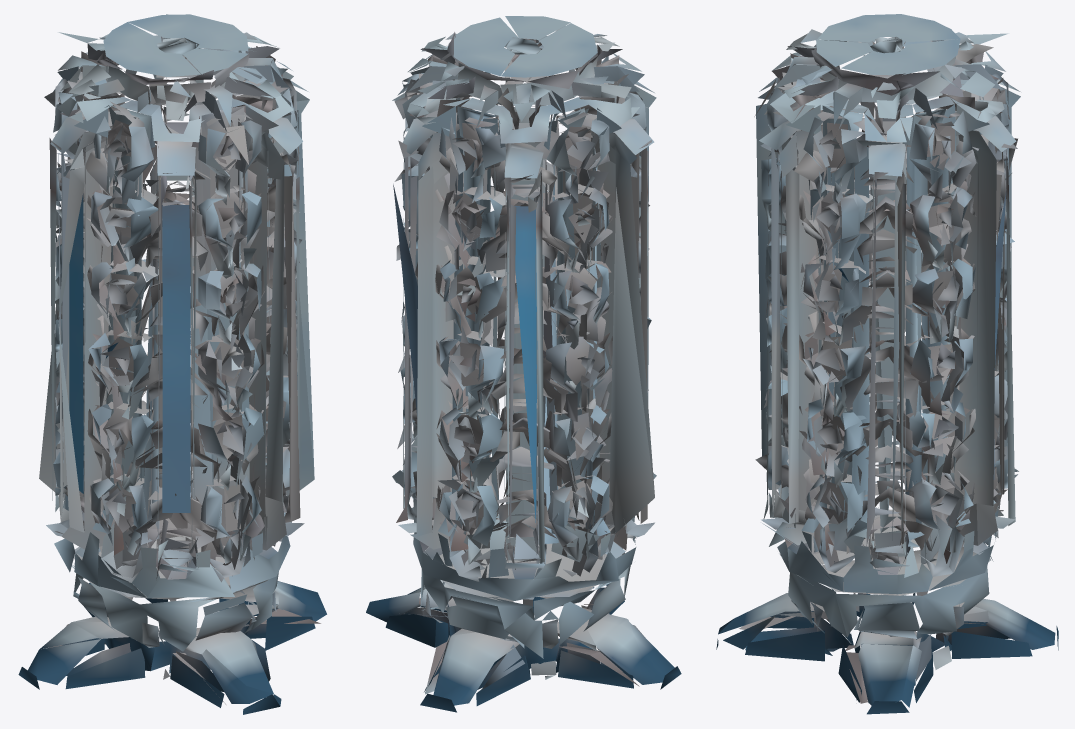
File: CryoFridge_C.glb
3 renders of one model, left to right at view 1: azimuth 30°, elevation 25°; view 2: azimuth 150°, elevation 25°; view 3: azimuth 270°, elevation 25°, orthographic.
Parts seen in each view (by area): view 1: SM_Cryofridge; view 2: SM_Cryofridge; view 3: SM_Cryofridge.
Part boxes in pixels (x1,y1,x2,y2): SM_Cryofridge: (18,14,326,714); SM_Cryofridge: (366,16,681,712); SM_Cryofridge: (716,14,1058,714).
Bounding box in the file's own units: 0.9718 × 1.88 × 0.9695.
Materials: 1 (1 with a texture image).
